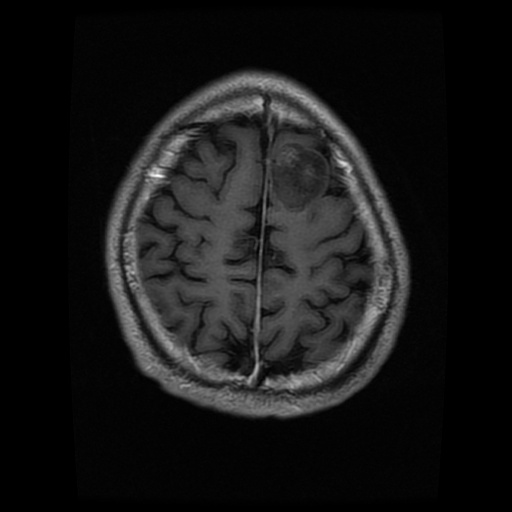glioma: (272, 140, 329, 211)
